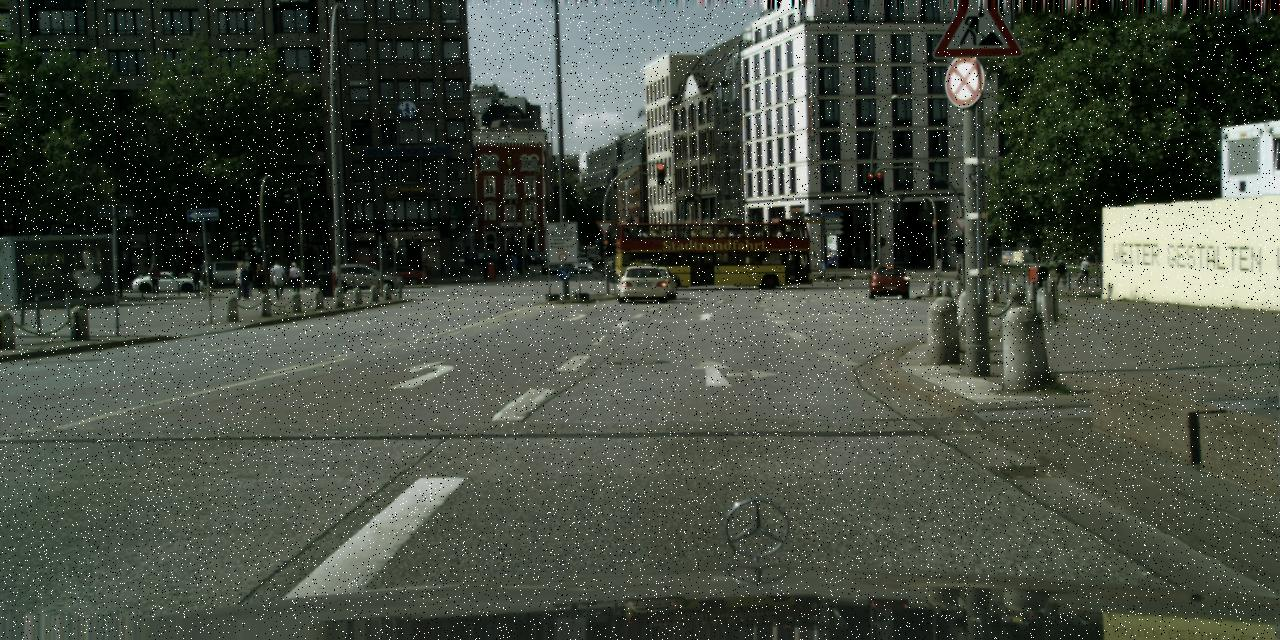ped: (270, 259, 286, 300), (232, 262, 248, 300), (198, 260, 214, 296), (111, 262, 126, 298), (236, 262, 250, 300), (253, 263, 267, 298), (288, 262, 301, 296), (148, 262, 160, 296), (190, 264, 202, 296), (243, 266, 255, 296), (1054, 259, 1065, 285), (1079, 255, 1089, 282), (280, 258, 290, 284), (508, 255, 518, 276), (502, 256, 510, 276), (463, 247, 469, 264), (1077, 256, 1082, 271), (580, 248, 585, 260)
